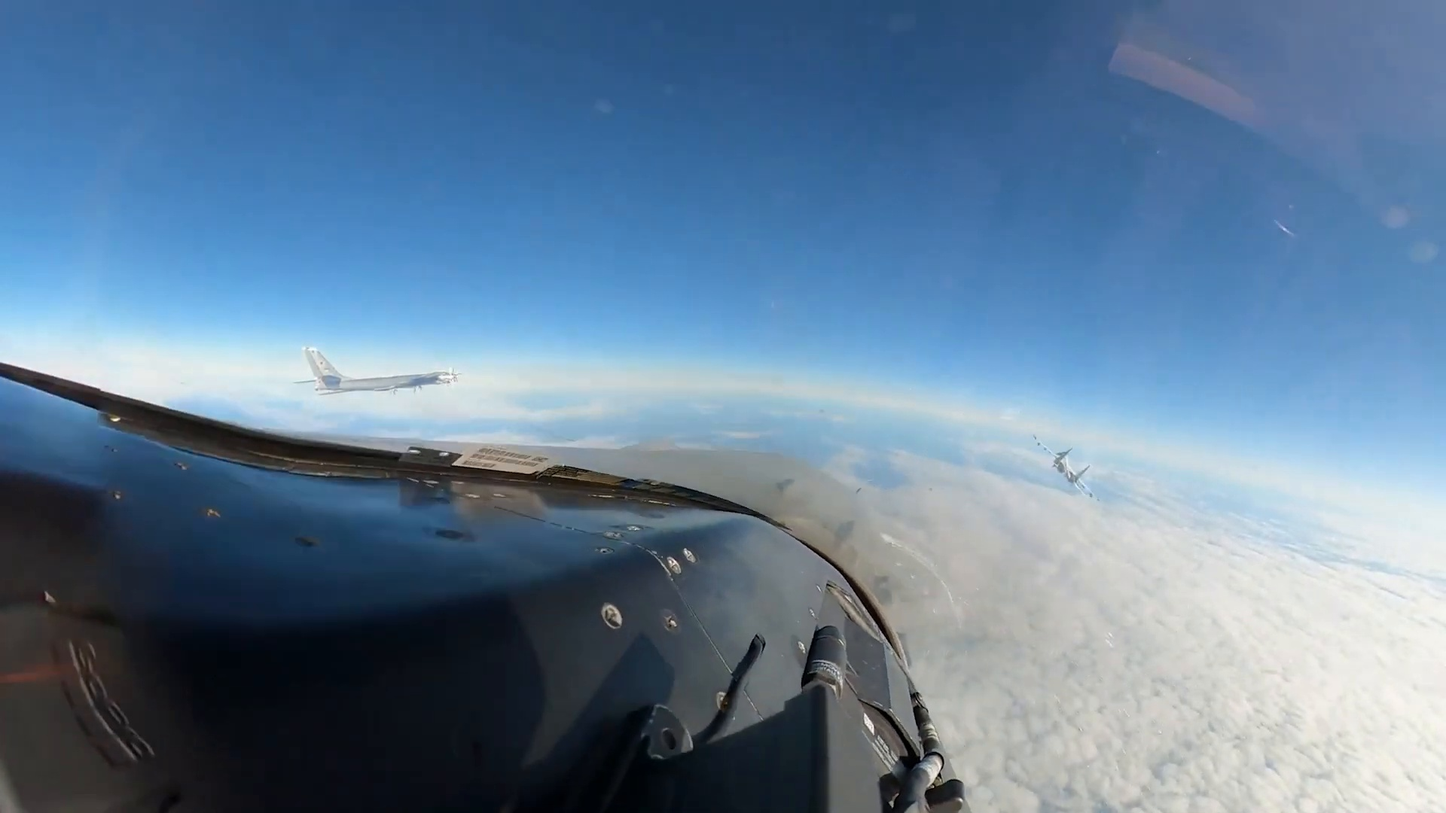Su35: (1035, 436, 1095, 501)
